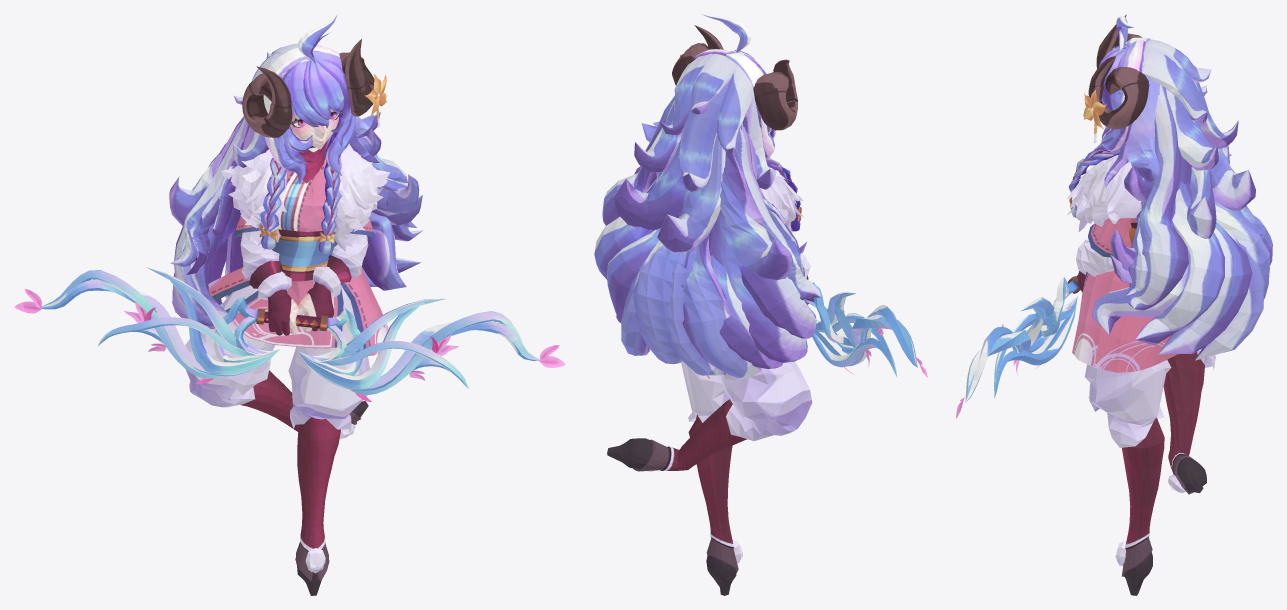
File: kindred.glb
3 views of the same model, side by side, from view 1: azimuth 30°, elevation 25°; view 2: azimuth 150°, elevation 25°; view 3: azimuth 270°, elevation 25° (orthographic).
Parts seen in each view (by area): view 1: Object_23.001, Object_13.001, Object_11.001, Object_8.001; view 2: Object_23.001, Object_13.001, Object_8.001, Object_11.001; view 3: Object_23.001, Object_13.001, Object_8.001, Object_11.001, Object_25.001.
Part boxes in pixels (bbox=[...]): Object_23.001: bbox=[169, 14, 423, 328]; Object_13.001: bbox=[185, 141, 390, 432]; Object_11.001: bbox=[14, 267, 565, 401]; Object_8.001: bbox=[240, 109, 368, 595]; Object_23.001: bbox=[594, 14, 821, 378]; Object_13.001: bbox=[681, 167, 812, 441]; Object_8.001: bbox=[607, 275, 808, 595]; Object_11.001: bbox=[804, 282, 927, 377]; Object_23.001: bbox=[1068, 14, 1272, 360]; Object_13.001: bbox=[1066, 155, 1215, 447]; Object_8.001: bbox=[1077, 124, 1206, 595]; Object_11.001: bbox=[956, 144, 1231, 418]; Object_25.001: bbox=[1083, 87, 1106, 143].
Size of the model in its own units: 1.96 by 2.6 by 1.29.
7 materials, 7 textured.
